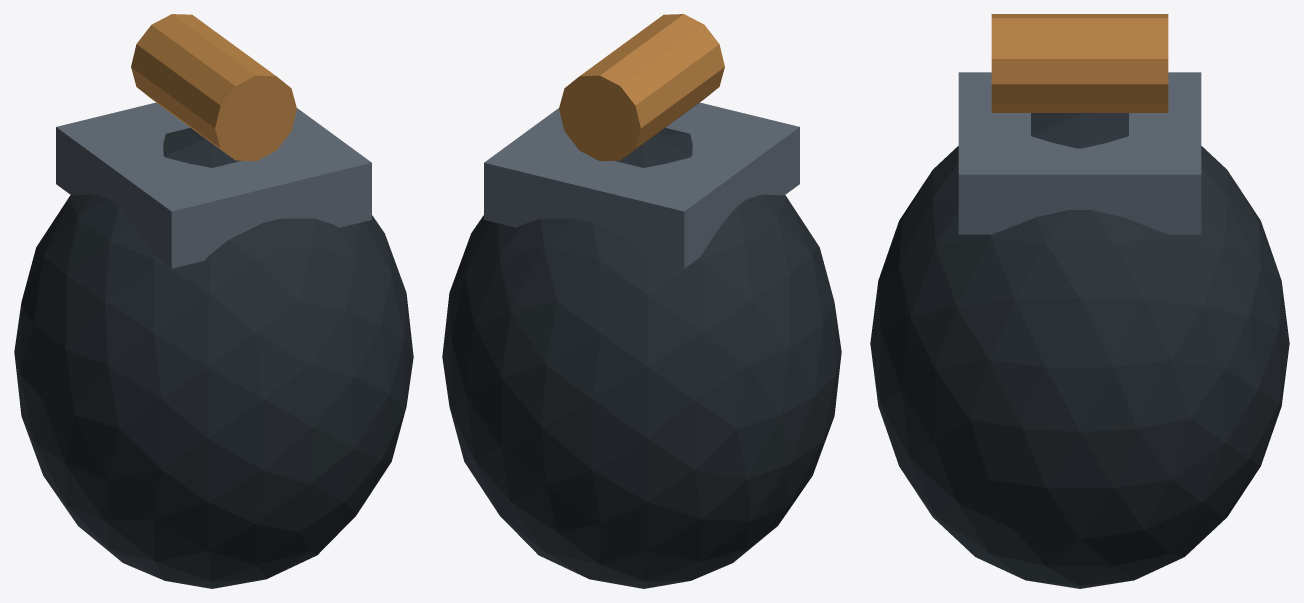
Rendered from hellfire_grenade.glb.
3 renders of one model, left to right at view 1: azimuth 30°, elevation 25°; view 2: azimuth 150°, elevation 25°; view 3: azimuth 270°, elevation 25°, orthographic. The views are drawn at different scales.
Visible parts, largest first — view 1: Fragmentation body, Top cap, Fuse pin; view 2: Fragmentation body, Top cap, Fuse pin; view 3: Fragmentation body, Top cap, Fuse pin.
Part boxes in pixels (bbox=[...]): Fragmentation body: bbox=[14, 128, 413, 588]; Top cap: bbox=[56, 102, 371, 268]; Fuse pin: bbox=[131, 14, 296, 161]; Fragmentation body: bbox=[442, 128, 841, 588]; Top cap: bbox=[484, 102, 799, 268]; Fuse pin: bbox=[559, 14, 724, 161]; Fragmentation body: bbox=[870, 113, 1289, 588]; Top cap: bbox=[958, 72, 1201, 234]; Fuse pin: bbox=[991, 14, 1168, 112].
Bounding box in the file's own units: 0.38 × 0.555 × 0.38.
